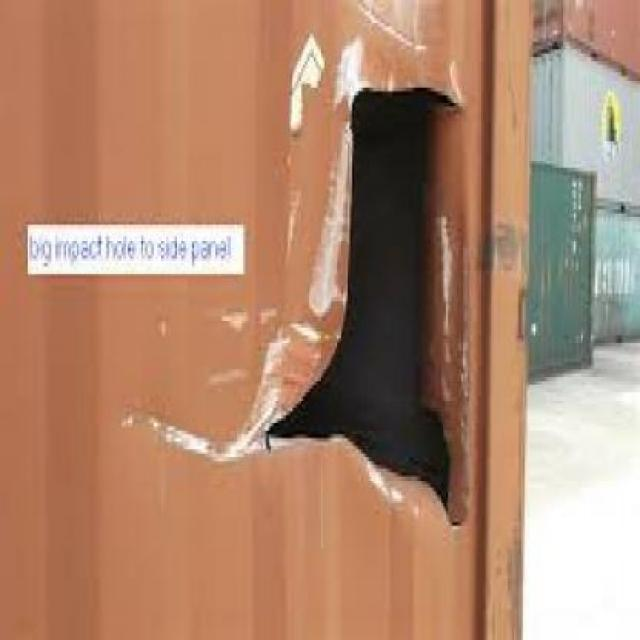hole: (118, 52, 478, 558)
rust: (487, 532, 523, 637), (481, 221, 526, 275)
